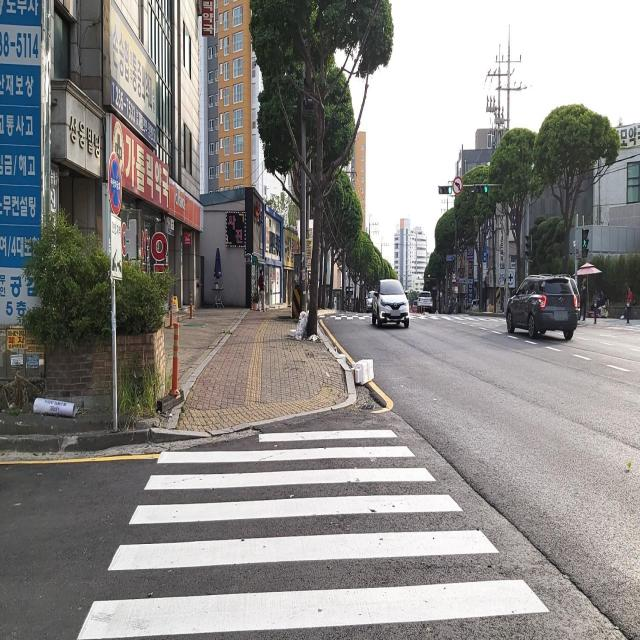횡단보도: (75, 427, 552, 640)
